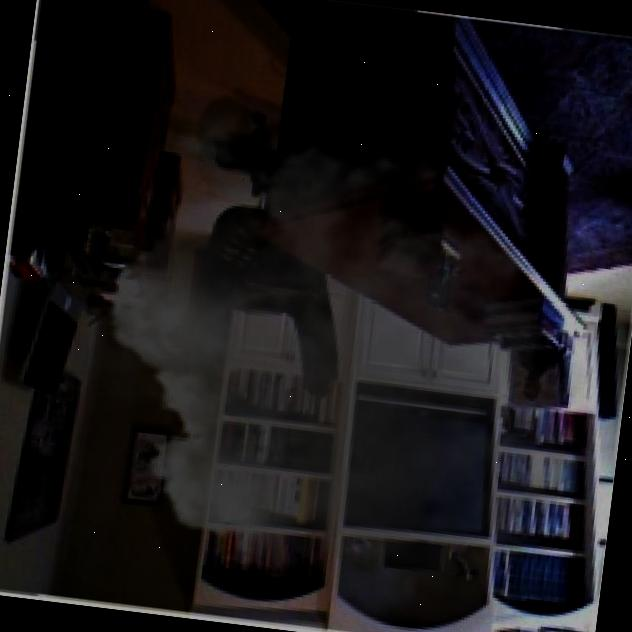smoke: (58, 80, 632, 632)
